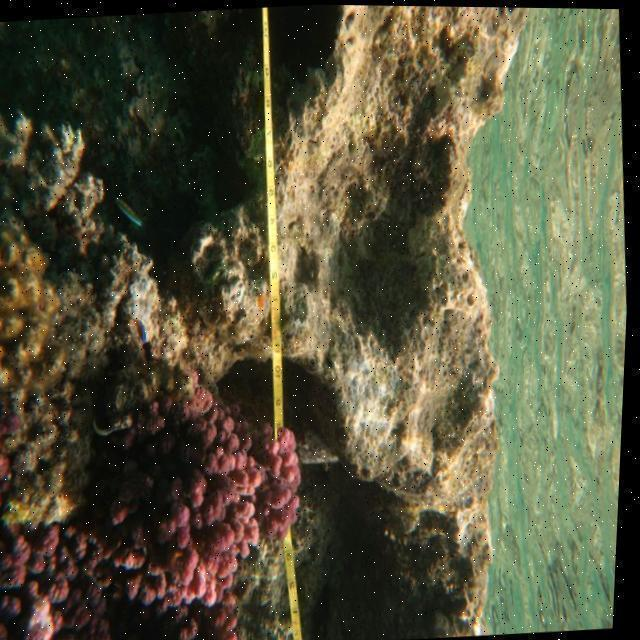Healthy Coral: (82, 377, 319, 640)
